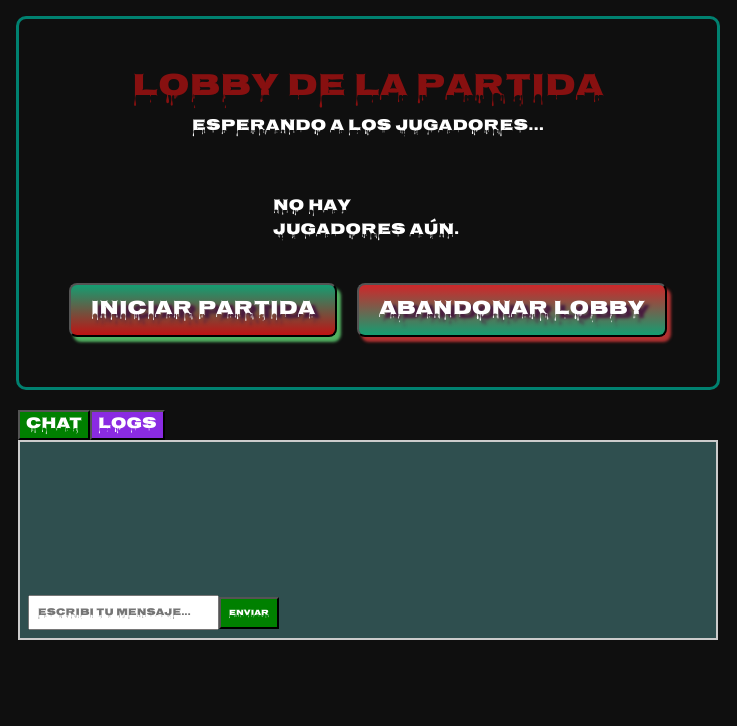
Test: IniciarPartida Component › maneja el click del boton Abandonar Lobby
Click the button "Abandonar Lobby" at {"x": 512, "y": 310}, box [357,283,667,337]
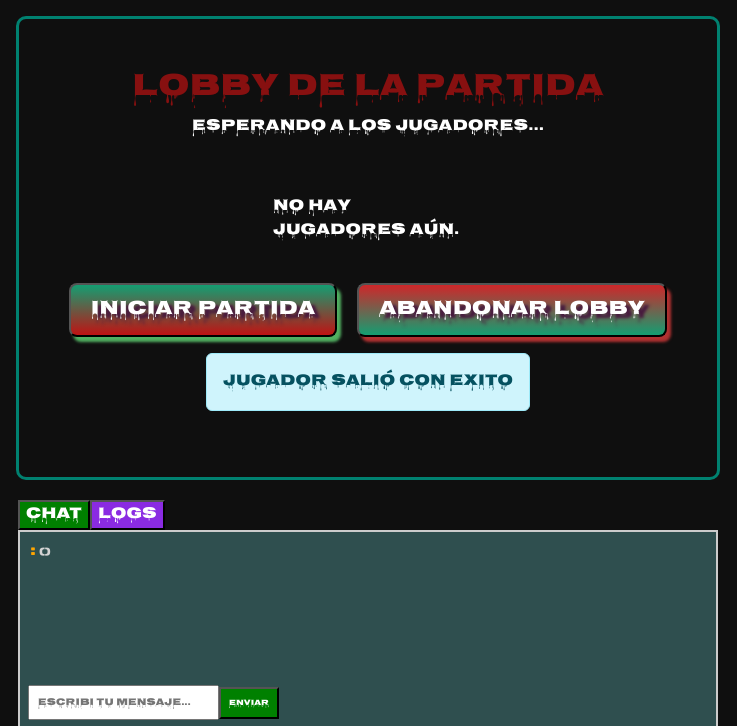
Expected: the text "Jugador salió con exito" is shown, [206,353,530,411]
